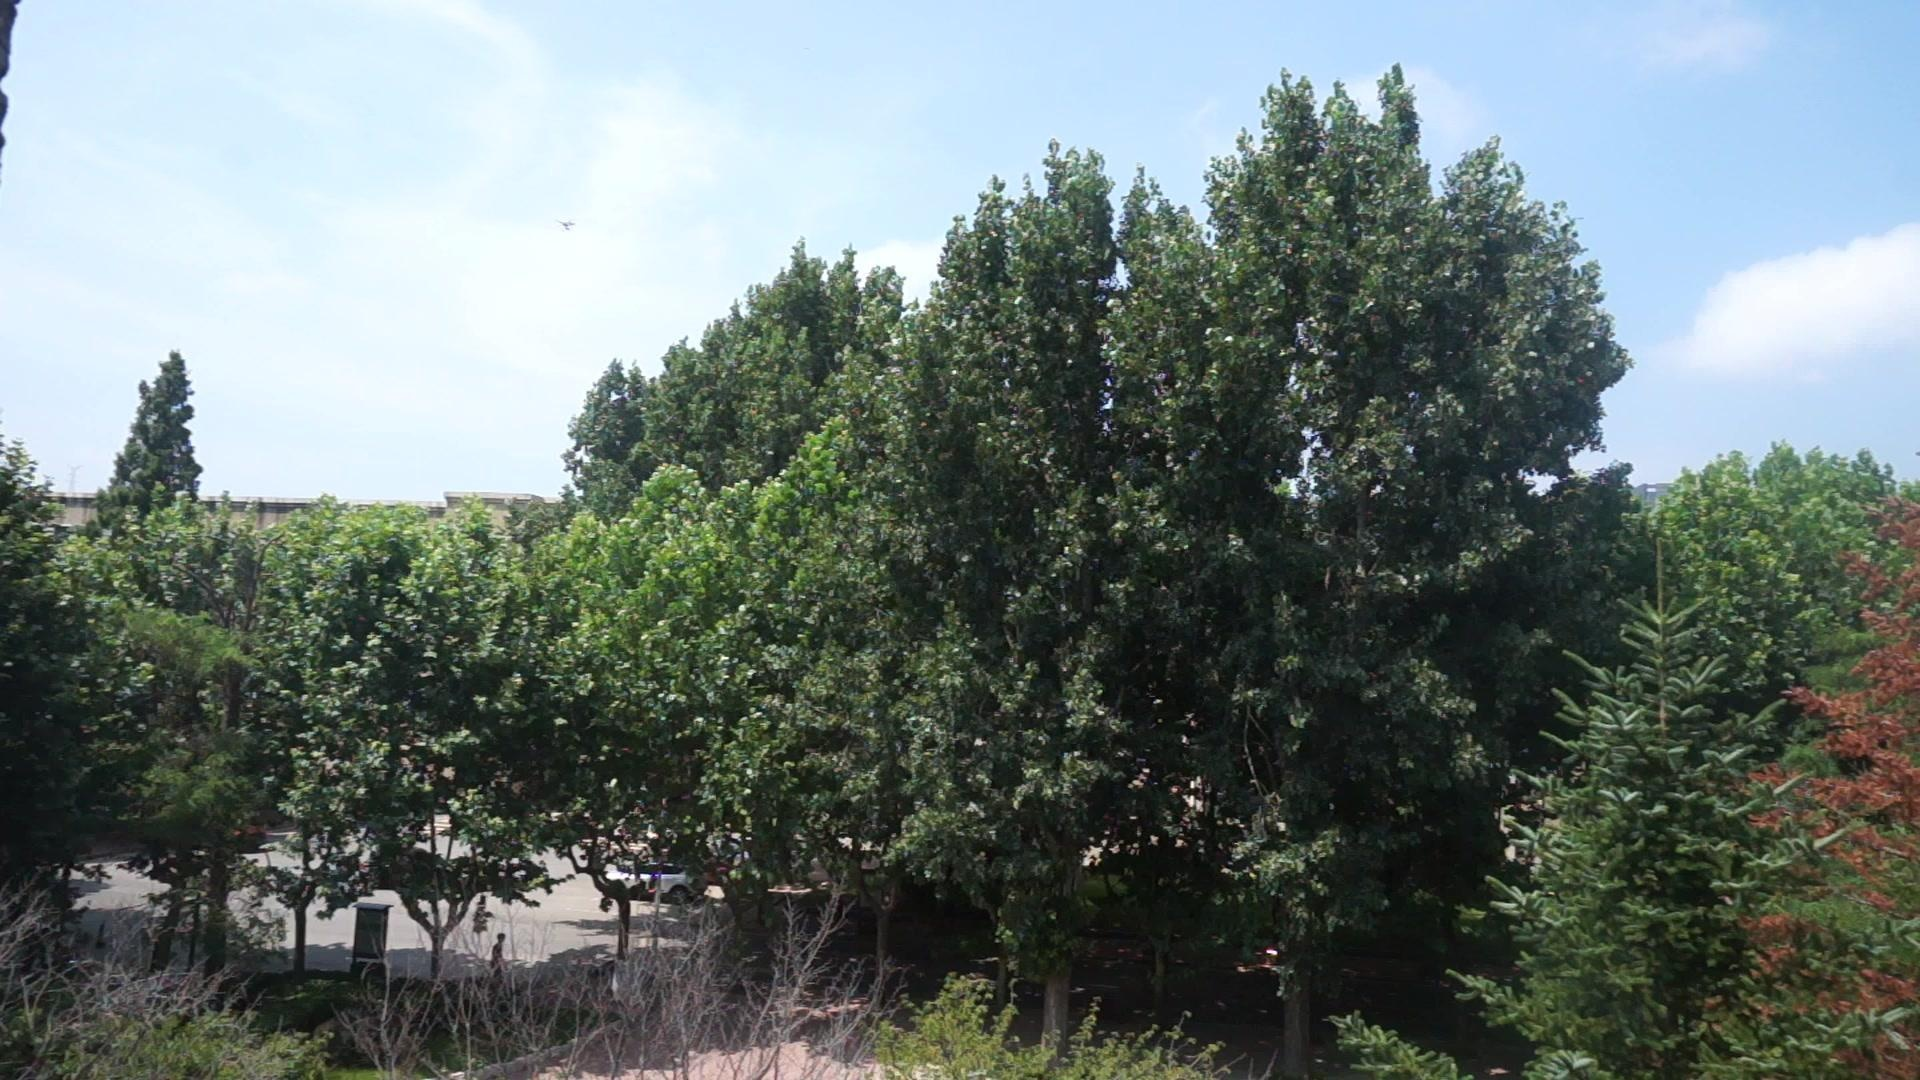UAV: (556, 220, 576, 232)
